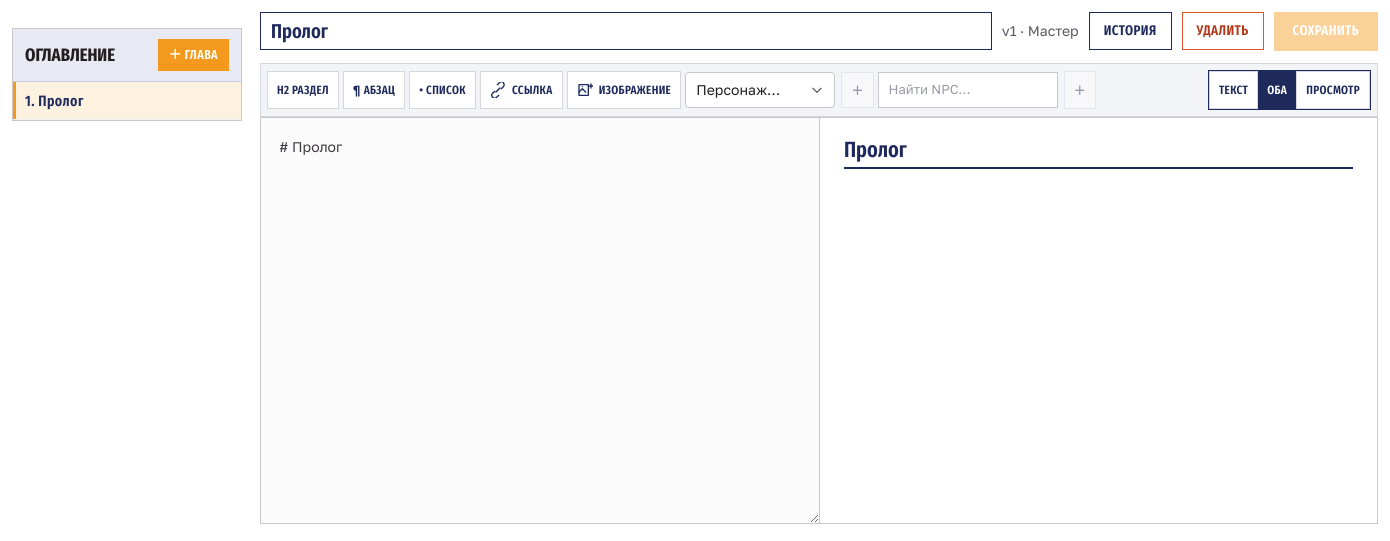
Test: CampaignChronicleTab — links › requests NPCs in the current campaign context
Focus the dropdown named "NPC для ссылки" at (968, 90), box [878, 72, 1058, 108]
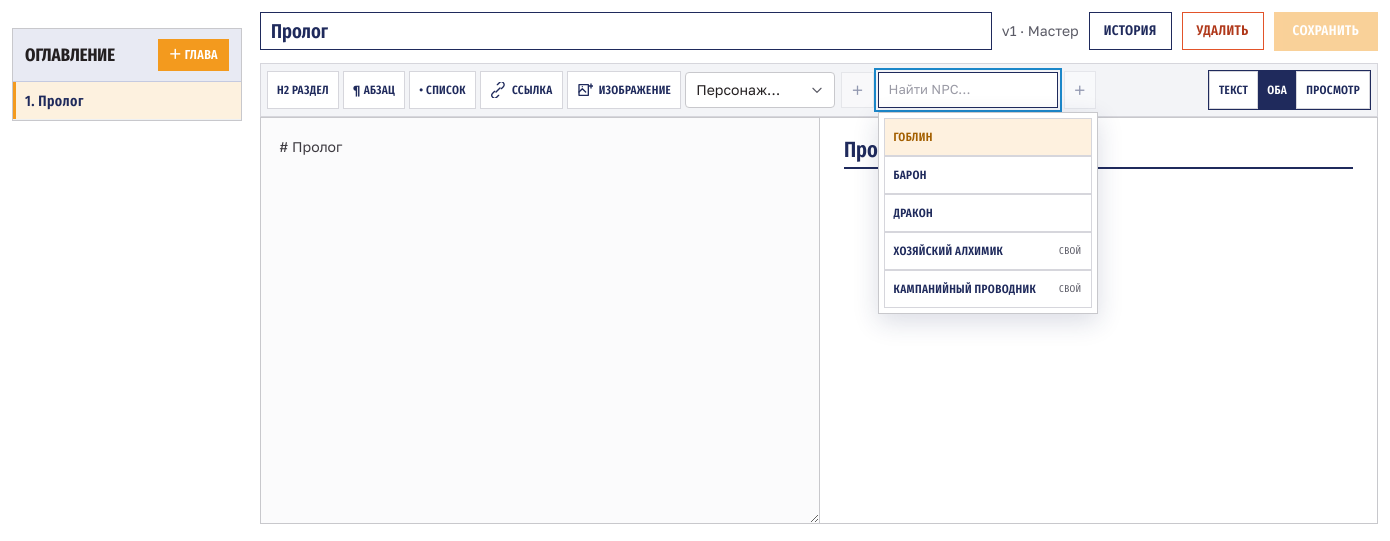
Now the option "Кампанийный проводник Свой" is shown, box [884, 270, 1092, 308]
